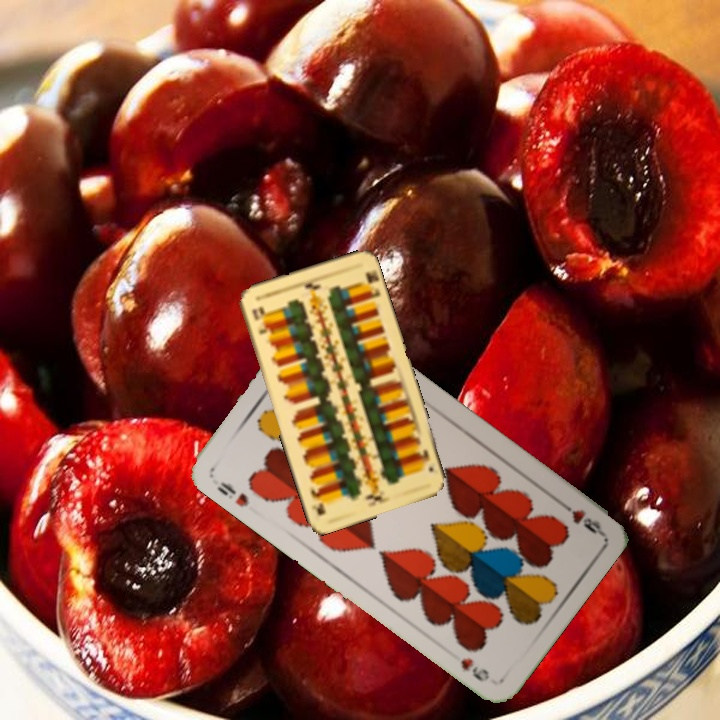E10: (248, 303, 269, 336), (415, 445, 436, 475)
H9: (553, 496, 604, 537), (213, 477, 252, 510)
